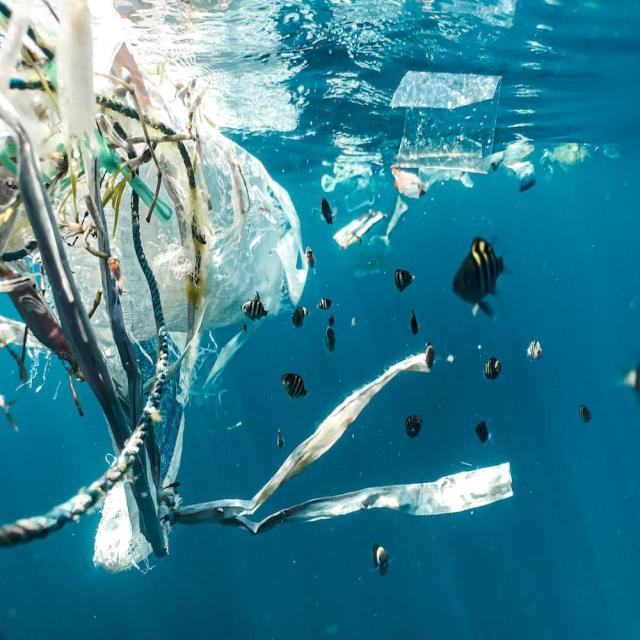plastic: (70, 57, 306, 357), (374, 52, 514, 182)
trash: (9, 2, 510, 572)
